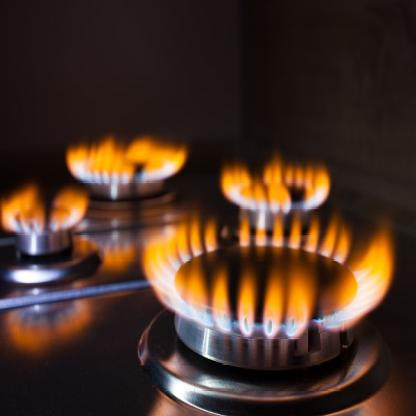fire: (144, 202, 392, 344), (217, 156, 334, 219), (70, 133, 185, 190), (4, 187, 91, 239)
